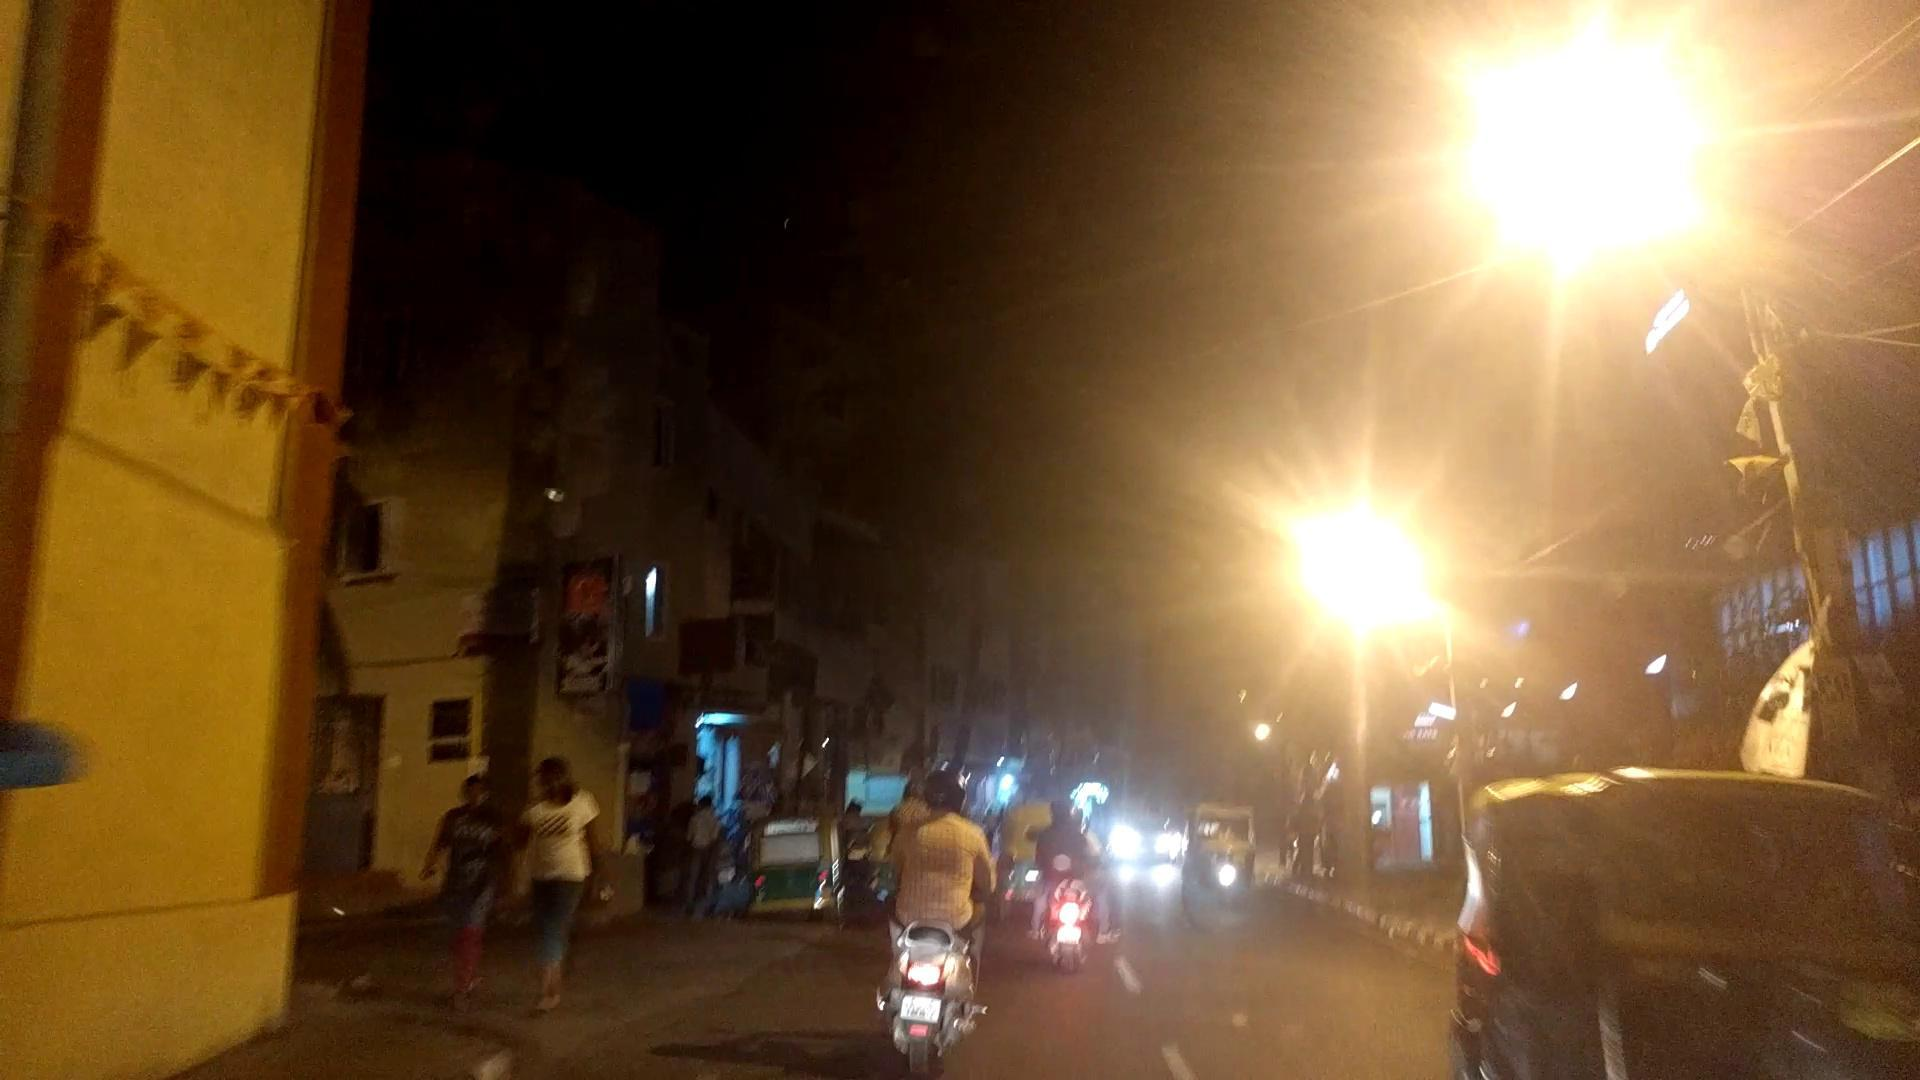on: (1320, 0, 1783, 339), (1240, 322, 1559, 748)
